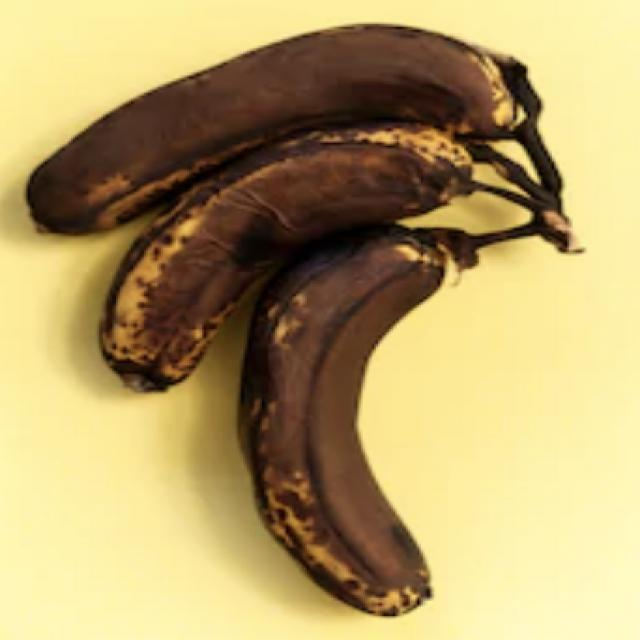rotten-banana: (0, 3, 520, 187), (62, 132, 466, 359), (226, 254, 482, 611)
